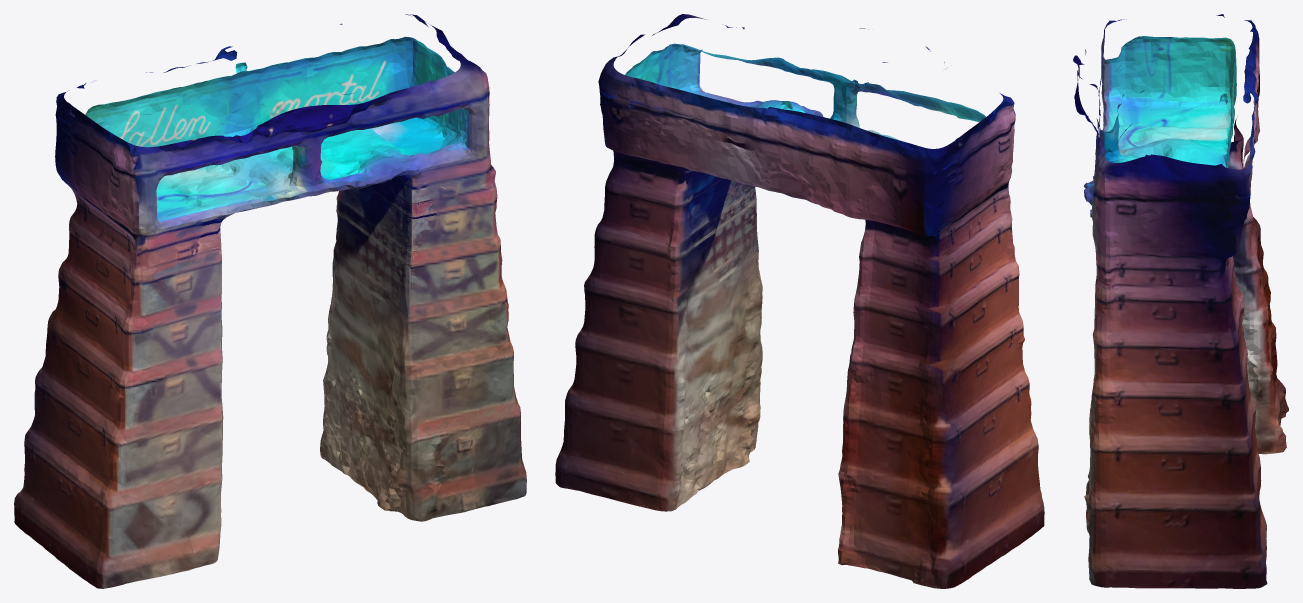
The model's file is Tate Museum, Gateway,1993, Vivan Sudaram.glb.
The picture shows the model from 3 angles, left to right: view 1: azimuth 30°, elevation 25°; view 2: azimuth 150°, elevation 25°; view 3: azimuth 270°, elevation 25°; orthographic projection. The views are drawn at different scales.
Bounding box in the file's own units: 2.25 × 2.27 × 1.07.
1 material, 1 textured.
